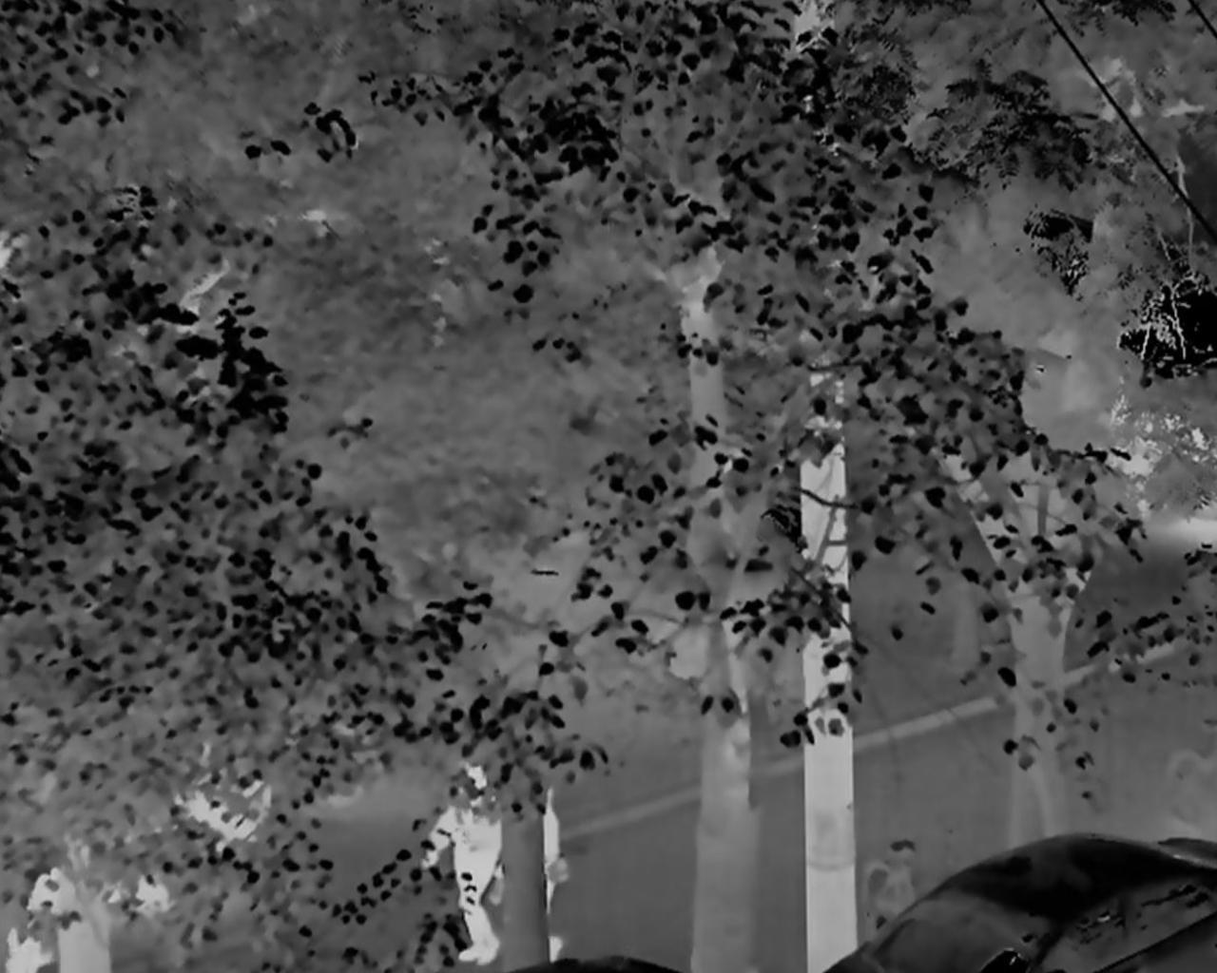person: (424, 757, 500, 973)
